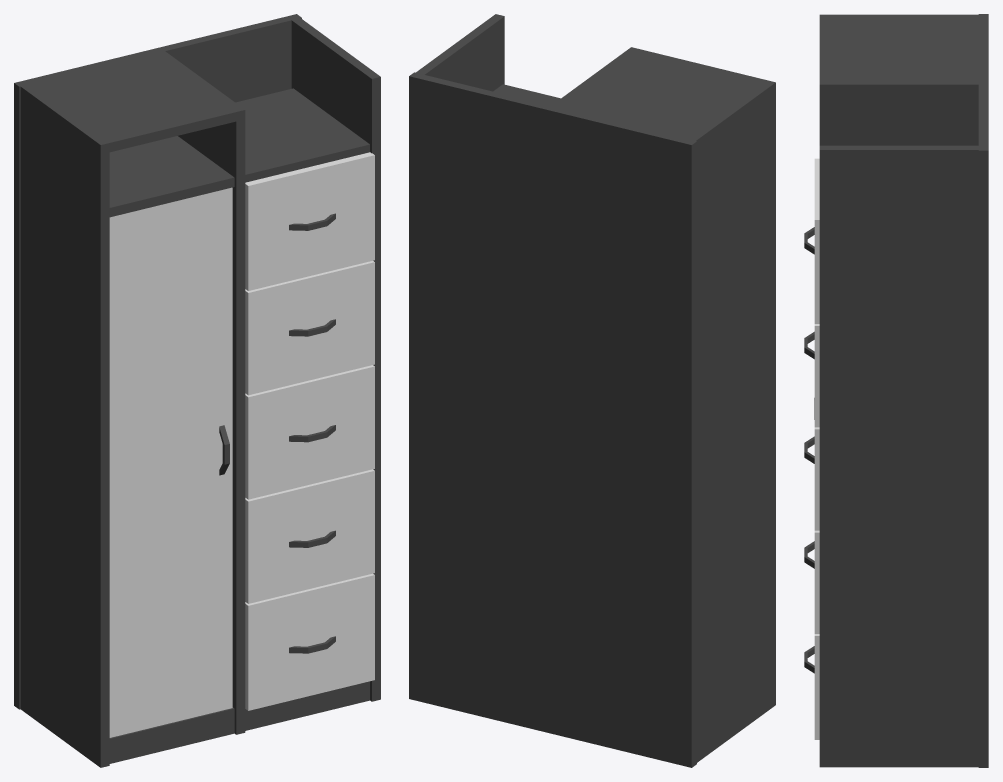
Rendered from Armario01.fbx.
3 views of the same model, side by side, from view 1: azimuth 30°, elevation 25°; view 2: azimuth 150°, elevation 25°; view 3: azimuth 270°, elevation 25° (orthographic).
Parts seen in each view (by area): view 1: Armario01; view 2: Armario01; view 3: Armario01.
Part boxes in pixels (x1=…): Armario01: x1=14, y1=14, x2=380, y2=767; Armario01: x1=409, y1=14, x2=775, y2=767; Armario01: x1=804, y1=14, x2=988, y2=767.
Size of the model in its own units: 0.894 by 1.88 by 0.5102.
